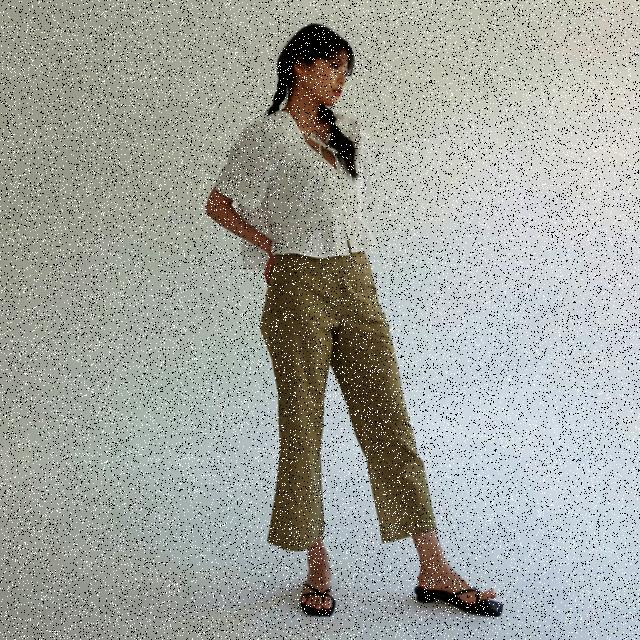Blouse_deep: (258, 229, 441, 556)
